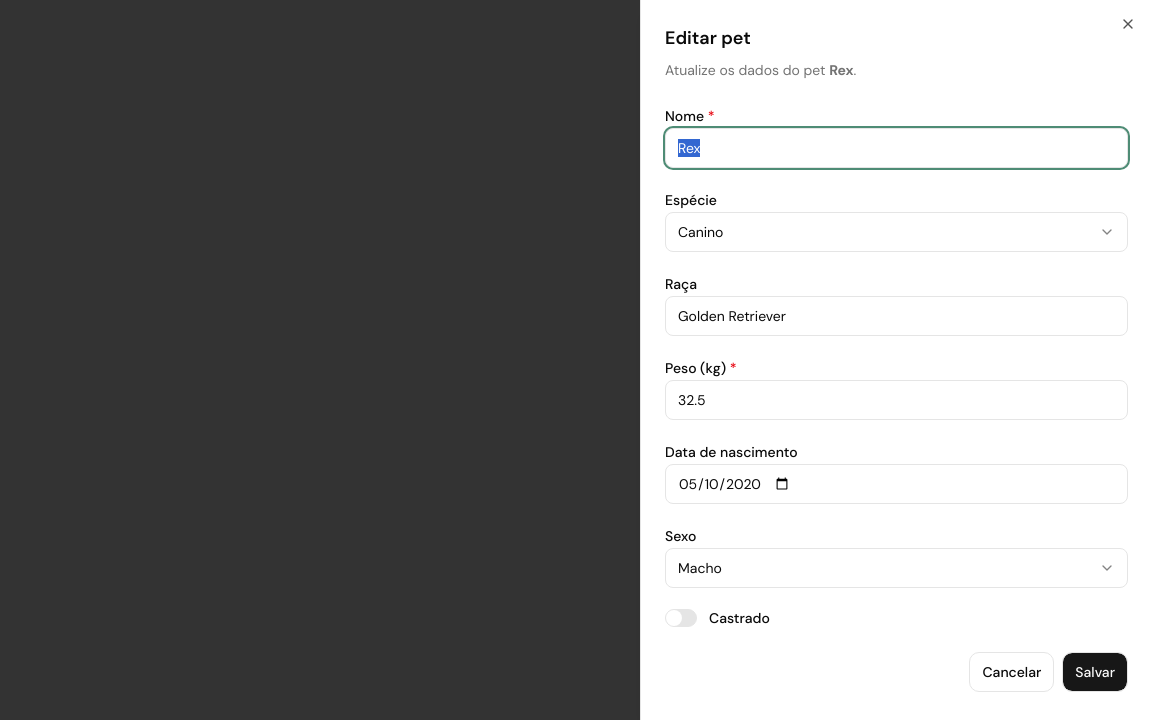
Test case: EditPetDrawer › should show validation error when weight is out of range
Replace the text in the number field labelled "Peso (kg) *" with "200" at (896, 400), box 665,380 -> 1128,420
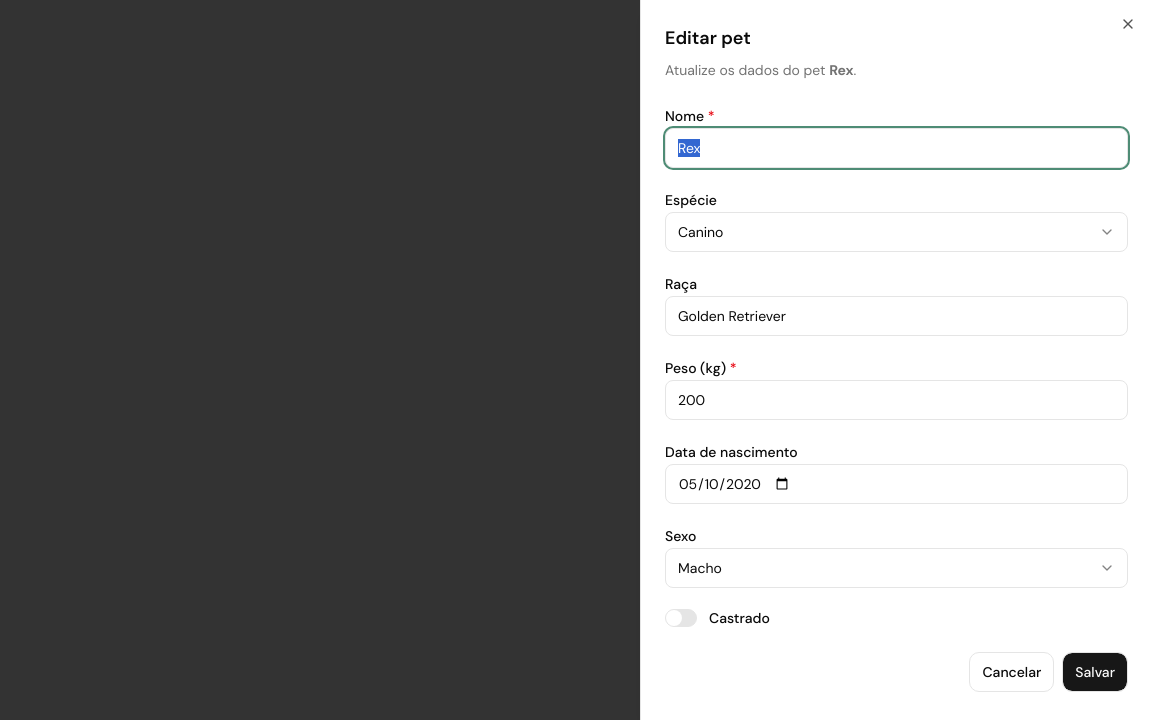
Submit the form with id "edit-pet-form", box 665,104 -> 1128,628
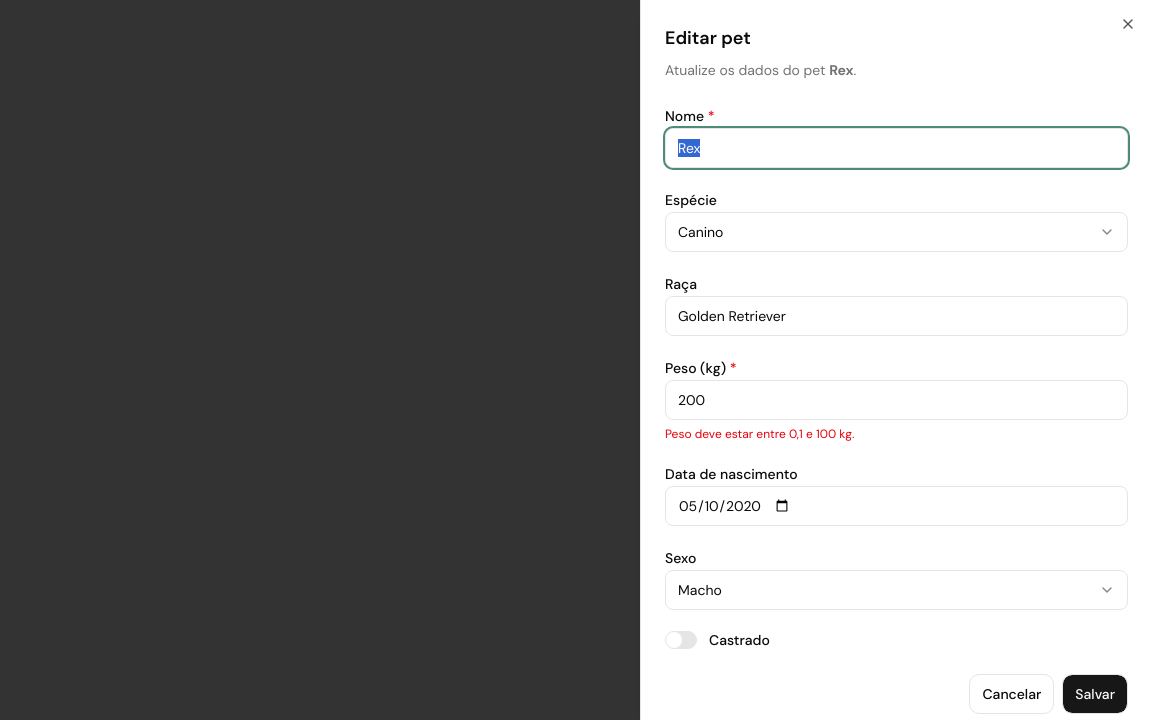
Check: the text "Peso deve estar entre 0,1 e 100 kg." is shown, box 665,426 -> 854,442
